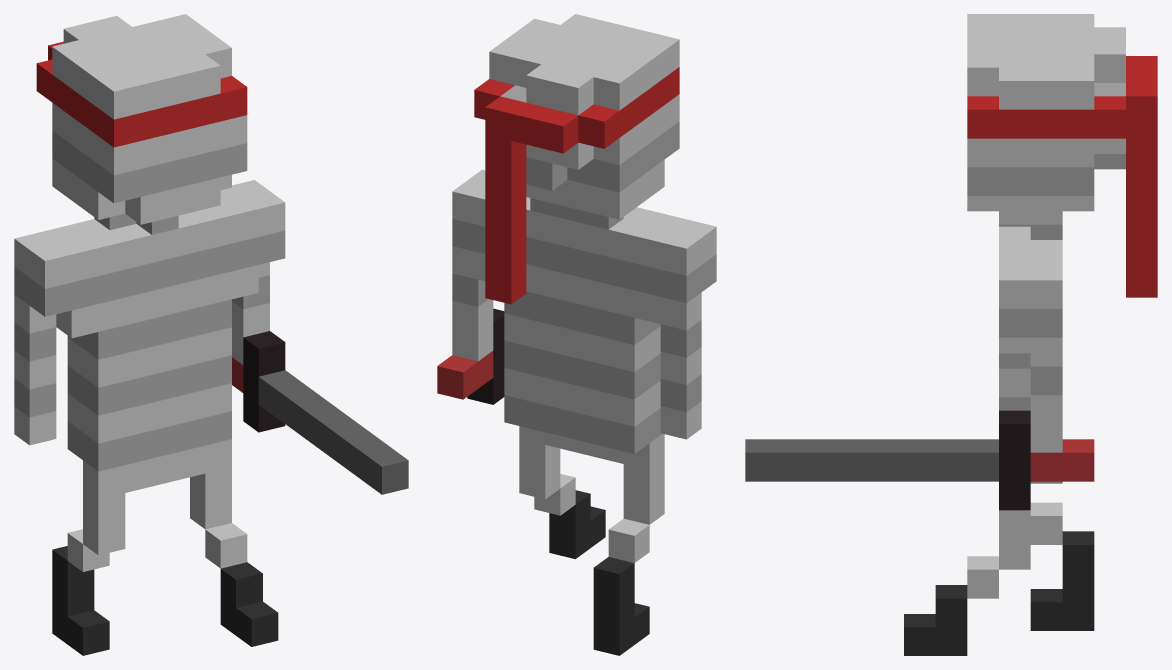
The model's file is SwingingWhiteCharacter-2.obj.
The picture shows the model from 3 angles, left to right: view 1: azimuth 30°, elevation 25°; view 2: azimuth 150°, elevation 25°; view 3: azimuth 270°, elevation 25°; orthographic projection. The views are drawn at different scales.
Parts seen in each view (by area): view 1: SwingingWhiteCharacter-2; view 2: SwingingWhiteCharacter-2; view 3: SwingingWhiteCharacter-2.
Boxes of the visible parts, x1,y1,x2,y2 form: SwingingWhiteCharacter-2: (14,14,408,655); SwingingWhiteCharacter-2: (437,14,716,655); SwingingWhiteCharacter-2: (745,14,1157,655).
Bounding box in the file's own units: 9 × 21 × 13.
Materials: 1 (1 with a texture image).
